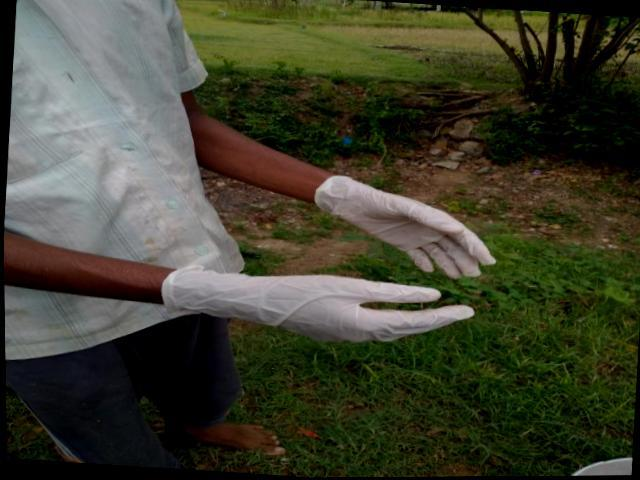Hand-in-Glove: (147, 256, 496, 358), (314, 162, 512, 286)
